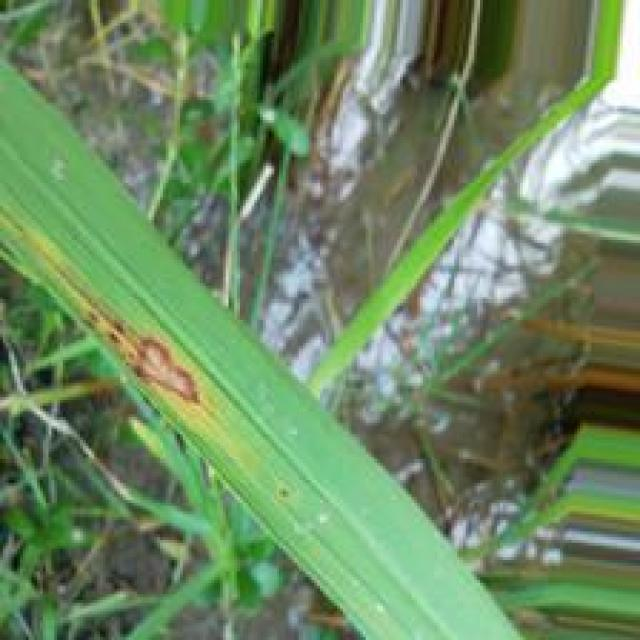Leaf_Blast: (127, 329, 202, 409), (103, 312, 132, 350)
